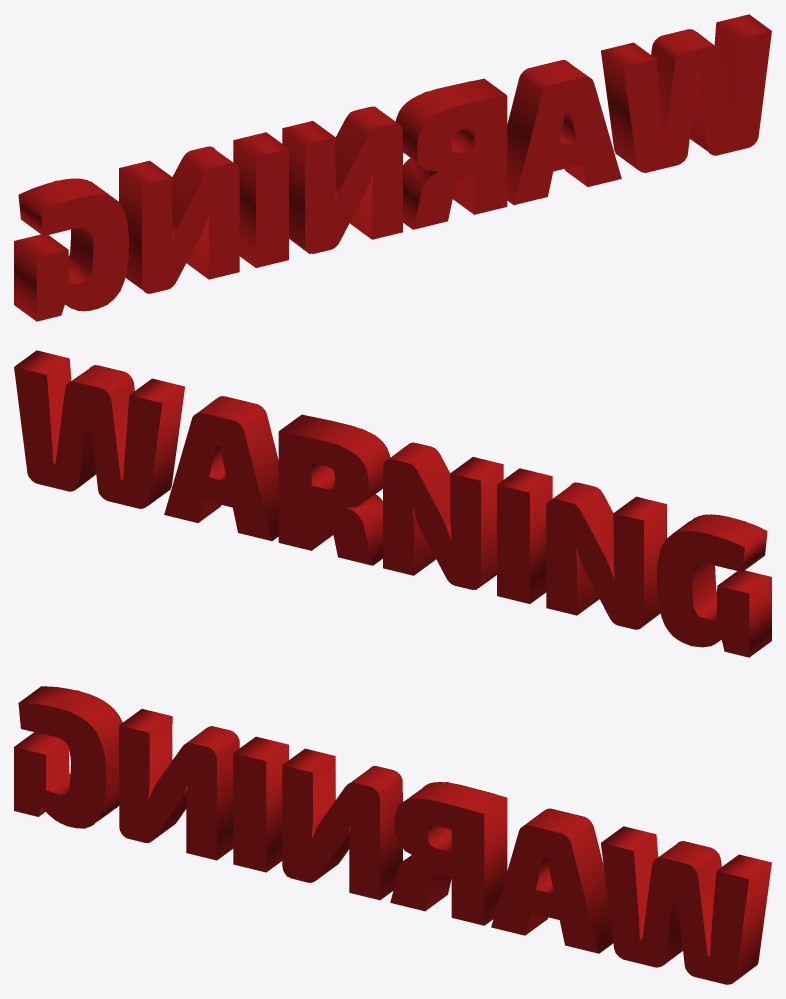
Rendered from warning.fbx.
The picture shows the model from 3 angles, top to bottom: view 1: azimuth 30°, elevation 25°; view 2: azimuth 150°, elevation 25°; view 3: azimuth 330°, elevation 25°; orthographic projection.
Visible parts, largest first — view 1: Text; view 2: Text; view 3: Text.
Part boxes in pixels (<box>): Text: <box>14,14,771,321</box>; Text: <box>14,350,771,657</box>; Text: <box>14,686,771,984</box>.
Bounding box in the file's own units: 14.94 × 2.27 × 0.8.
